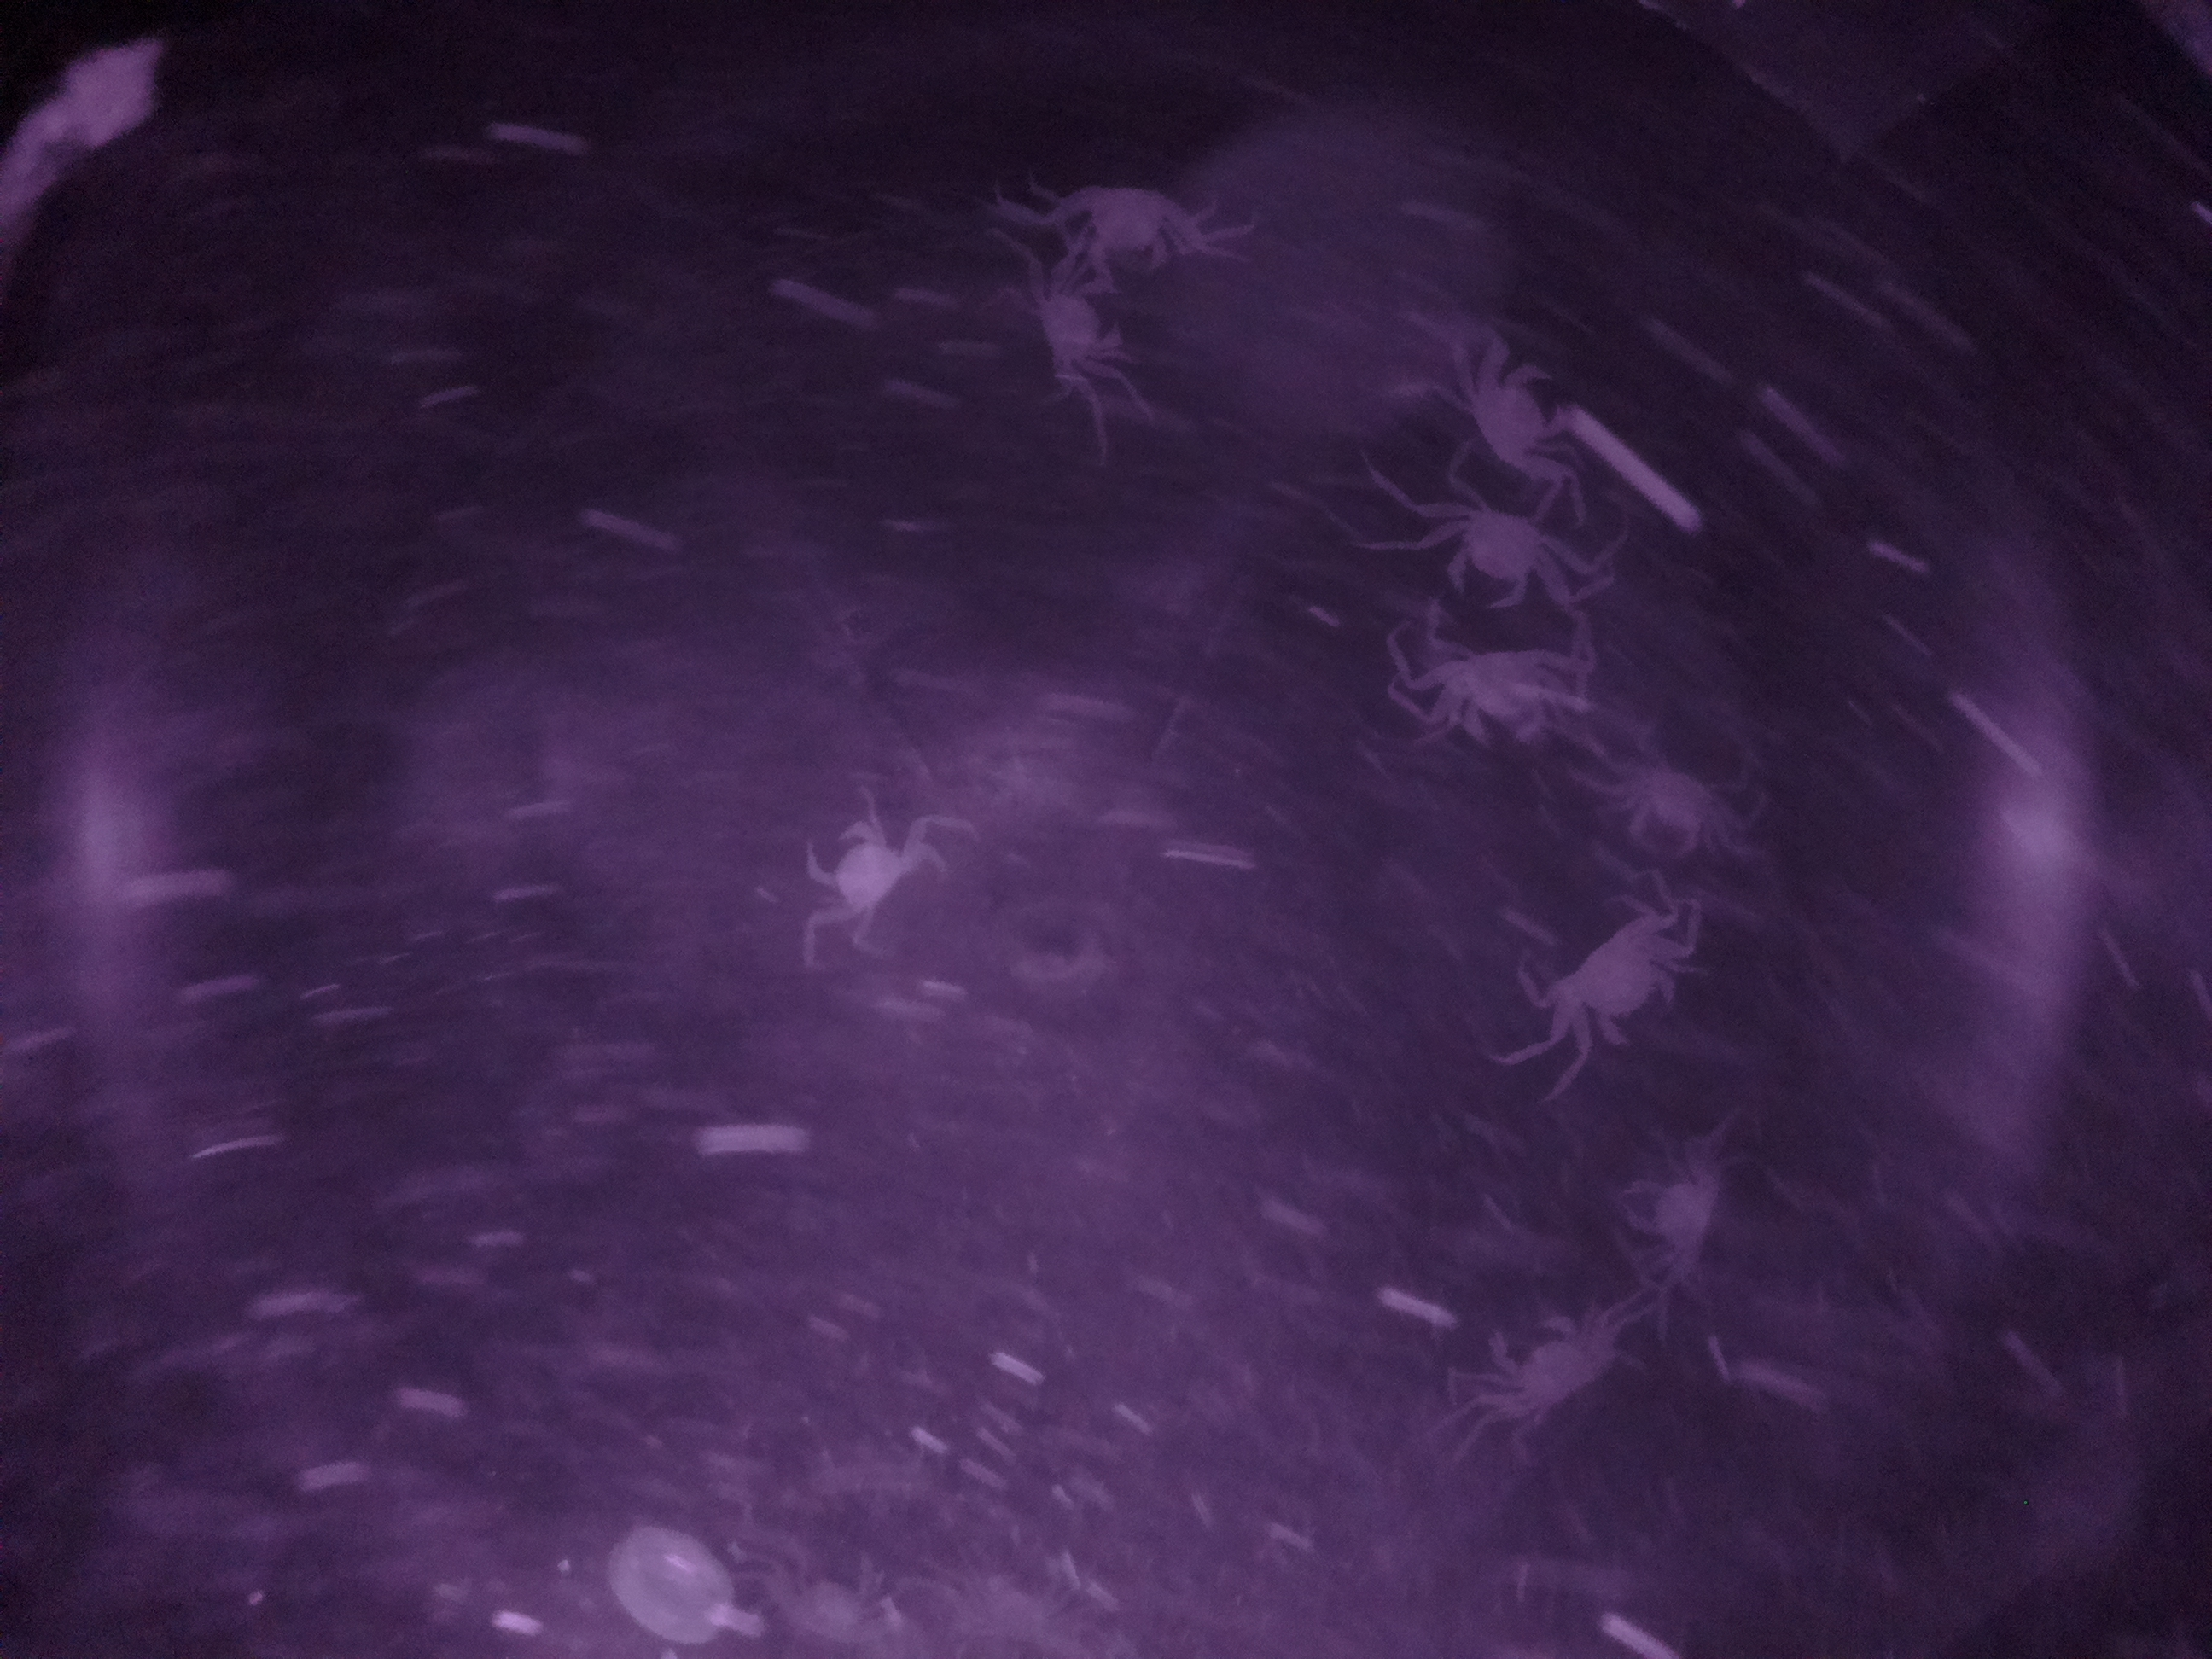Crab: (1538, 892, 1709, 1066), (1411, 491, 1587, 619), (1446, 331, 1588, 476)
